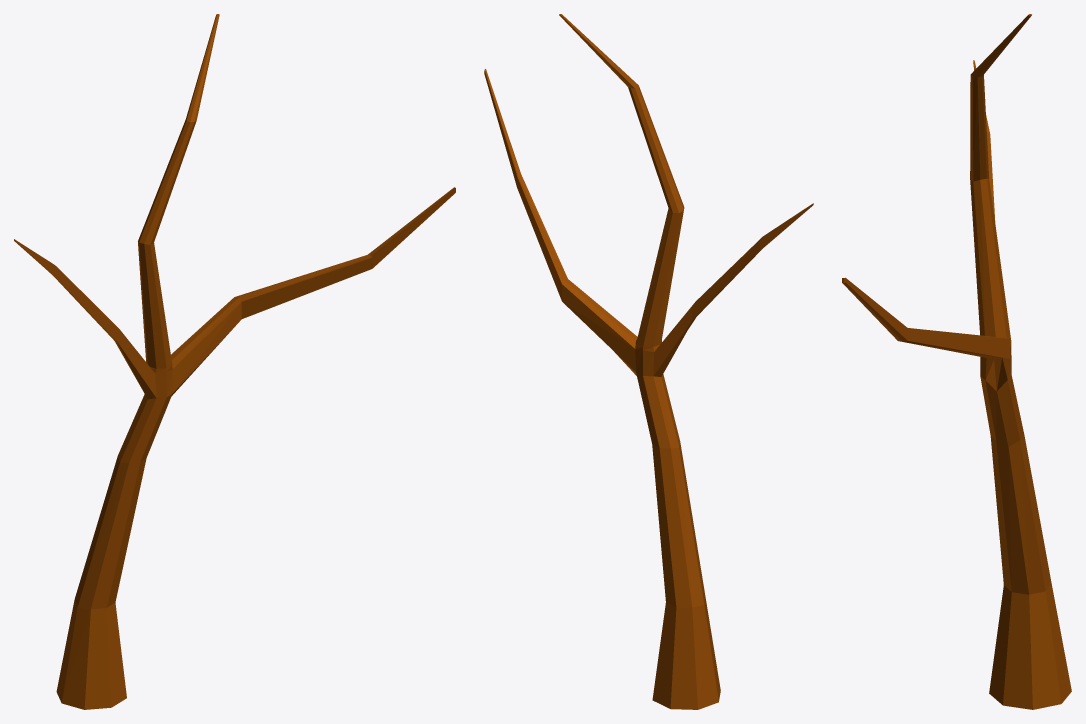
Rendered from Vegetation_Modular_New_Tree_Trunk_04.FBX.
3 renders of one model, left to right at view 1: azimuth 30°, elevation 25°; view 2: azimuth 150°, elevation 25°; view 3: azimuth 270°, elevation 25°, orthographic. The views are drawn at different scales.
Visible parts, largest first — view 1: Vegetation_Modular_New_Tree_Trunk_04; view 2: Vegetation_Modular_New_Tree_Trunk_04; view 3: Vegetation_Modular_New_Tree_Trunk_04.
Boxes of the visible parts, x1,y1,x2,y2 form: Vegetation_Modular_New_Tree_Trunk_04: [14, 14, 455, 709]; Vegetation_Modular_New_Tree_Trunk_04: [484, 14, 813, 709]; Vegetation_Modular_New_Tree_Trunk_04: [842, 14, 1071, 709].
Size of the model in its own units: 2357 by 3799 by 1057.
